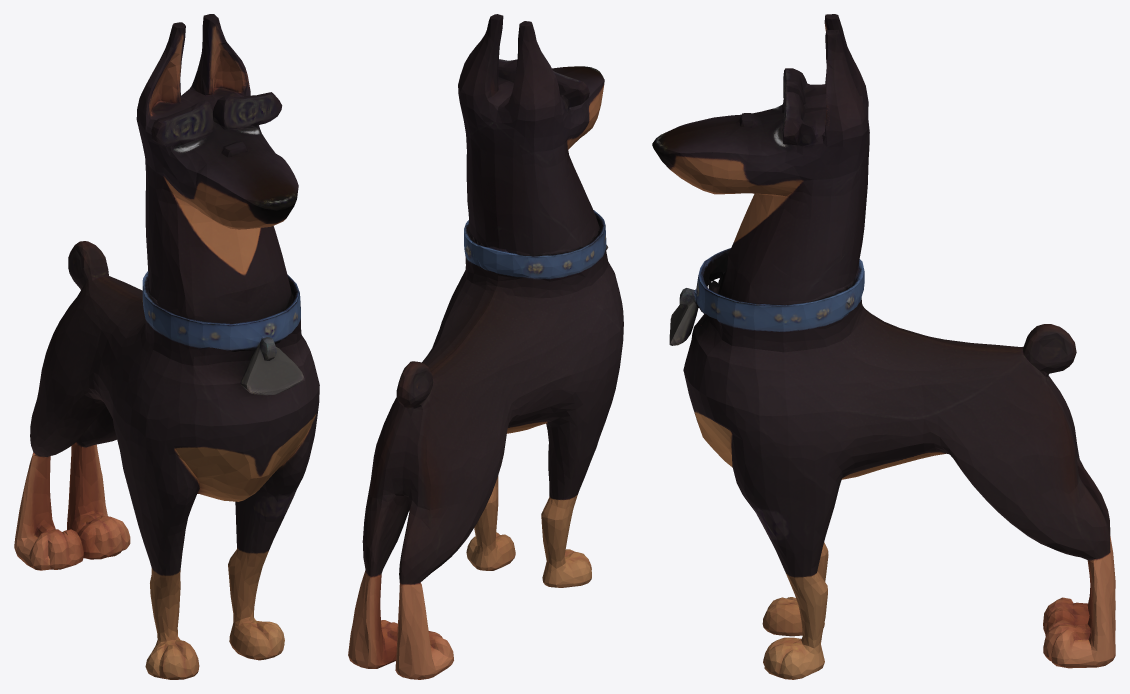
File: sample (42).glb
The picture shows the model from 3 angles, left to right: view 1: azimuth 30°, elevation 25°; view 2: azimuth 150°, elevation 25°; view 3: azimuth 270°, elevation 25°; orthographic projection. The views are drawn at different scales.
Parts seen in each view (by area): view 1: world; view 2: world; view 3: world.
Boxes of the visible parts, box(x1,y1,x2,y2) form: world: box(14, 14, 319, 679); world: box(348, 14, 623, 679); world: box(652, 14, 1115, 679).
Bounding box in the file's own units: 0.2899 × 1 × 0.6718.
1 material, 1 textured.
